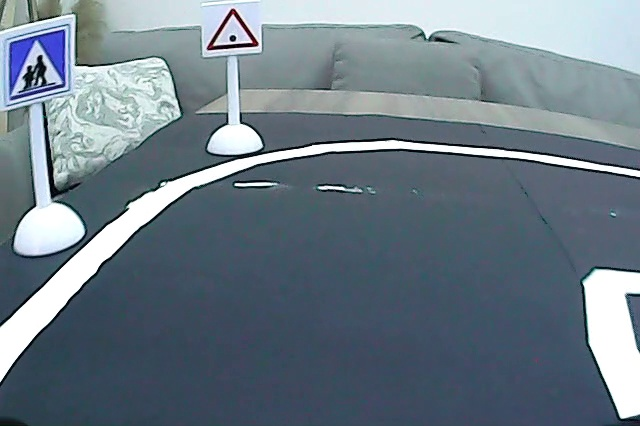green light: (205, 5, 262, 53)
school crossing: (4, 27, 72, 104)
